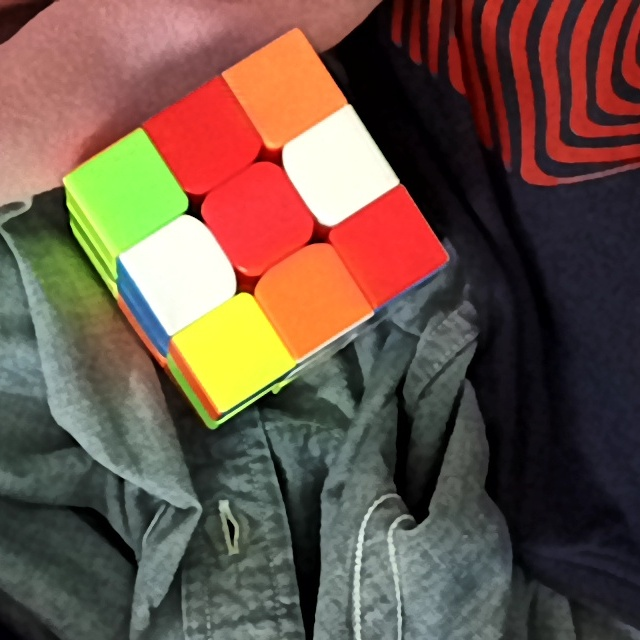tile: (94, 157, 160, 228), (226, 186, 292, 252), (148, 239, 212, 304), (253, 58, 315, 124), (277, 269, 343, 331), (305, 137, 368, 200), (177, 107, 238, 172), (358, 215, 421, 276), (202, 320, 265, 380)
